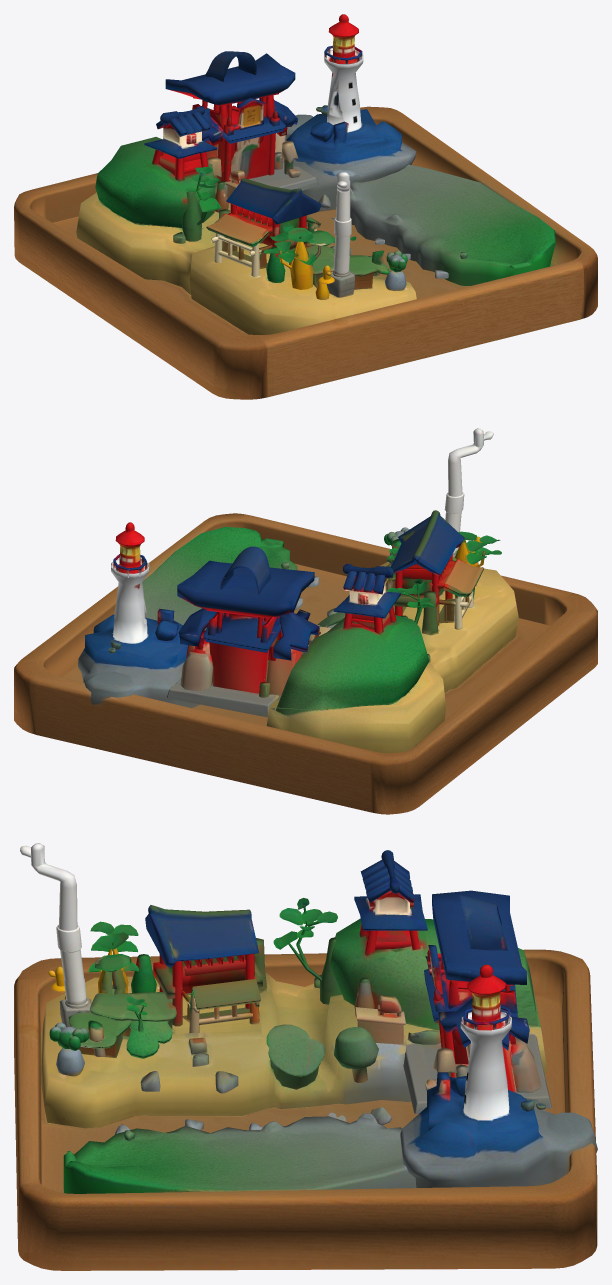
Rendered from enoshima.glb.
3 views of the same model, one above another, from view 1: azimuth 30°, elevation 25°; view 2: azimuth 150°, elevation 25°; view 3: azimuth 270°, elevation 25° (orthographic). The views are drawn at different scales.
Visible parts, largest first — view 1: tripo_node_e25b1c3d-e9e9-44d9-bf33-198af44e0c63; view 2: tripo_node_e25b1c3d-e9e9-44d9-bf33-198af44e0c63; view 3: tripo_node_e25b1c3d-e9e9-44d9-bf33-198af44e0c63.
Part boxes in pixels (box(x1,y1,x2,y2)): tripo_node_e25b1c3d-e9e9-44d9-bf33-198af44e0c63: box(14, 14, 597, 399); tripo_node_e25b1c3d-e9e9-44d9-bf33-198af44e0c63: box(14, 428, 597, 814); tripo_node_e25b1c3d-e9e9-44d9-bf33-198af44e0c63: box(14, 843, 597, 1270).
Size of the model in its own units: 0.9995 by 0.481 by 0.978.
Materials: 1 (1 with a texture image).
